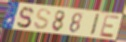8: (52, 10, 67, 33), (69, 12, 83, 34)
E: (99, 14, 121, 39)
I: (88, 13, 101, 37)
S: (33, 8, 52, 32), (16, 6, 35, 29)
